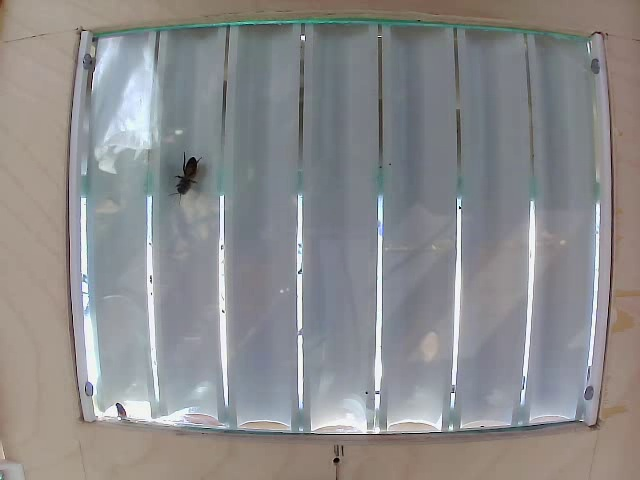bee: (164, 156, 203, 209)
